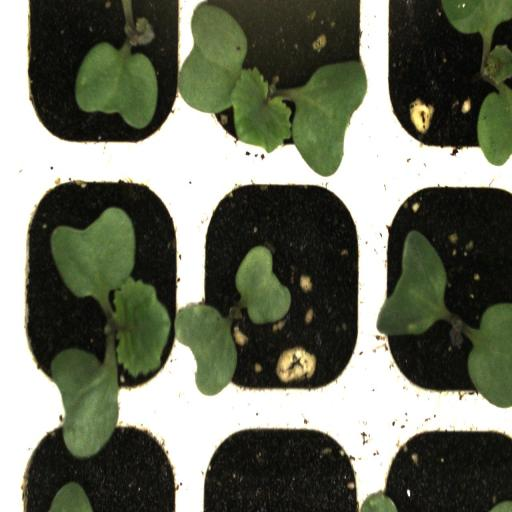seedling: (12, 162, 190, 410), (185, 166, 367, 408), (371, 167, 512, 416), (188, 0, 374, 173), (10, 0, 194, 173), (374, 0, 512, 174)
